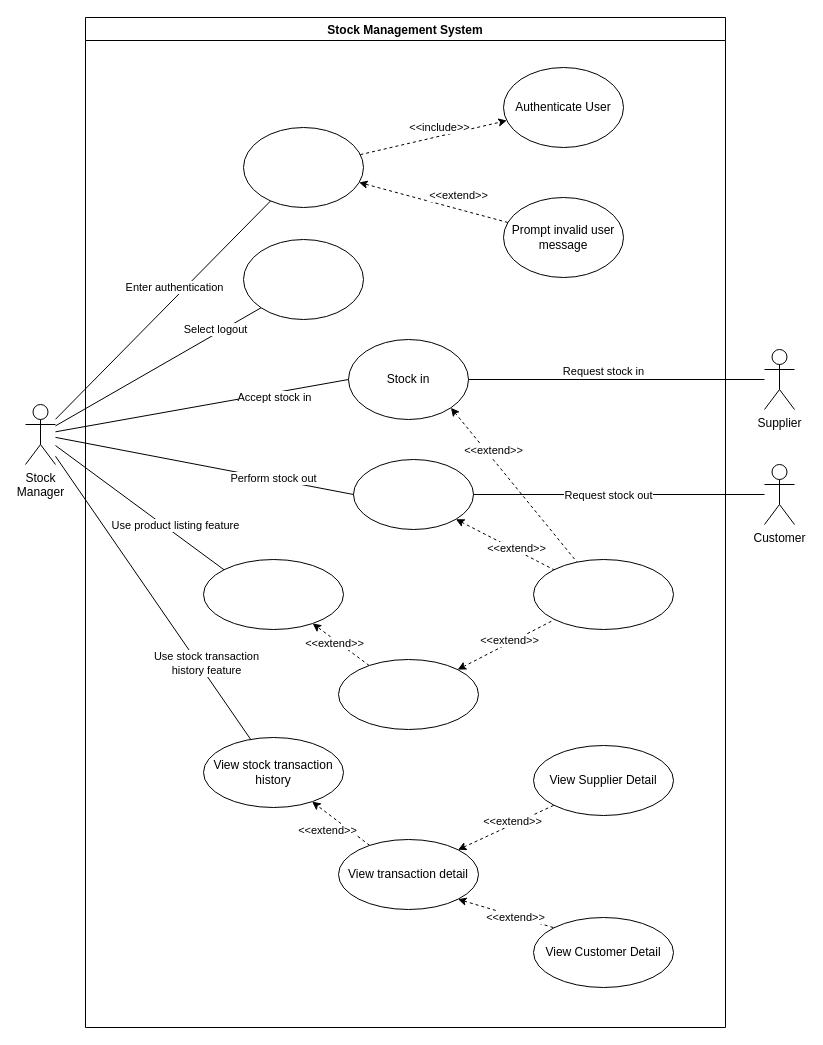
Image size: 823x1045. Some labels were removed from this diagram. The box of each missing label's shape, as (x1, y1, x2, y2) in pixels:
Login: (242, 126, 364, 208)
Logout: (242, 238, 364, 320)
Stock Adjustment: (338, 658, 478, 730)
Stock Out: (352, 458, 474, 530)
View list of product with current stock quantity: (202, 558, 344, 630)
Write a comment for the transaction: (532, 558, 674, 630)
